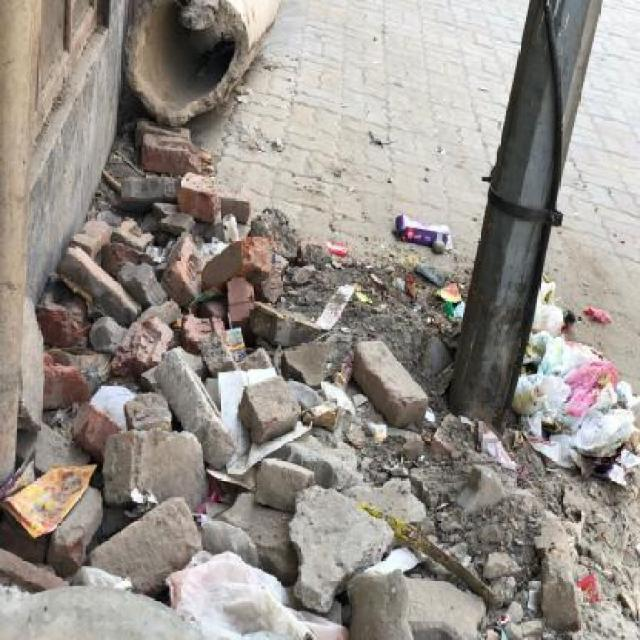garbage: (506, 268, 639, 469), (0, 457, 99, 542), (382, 208, 455, 272), (577, 563, 616, 619)
